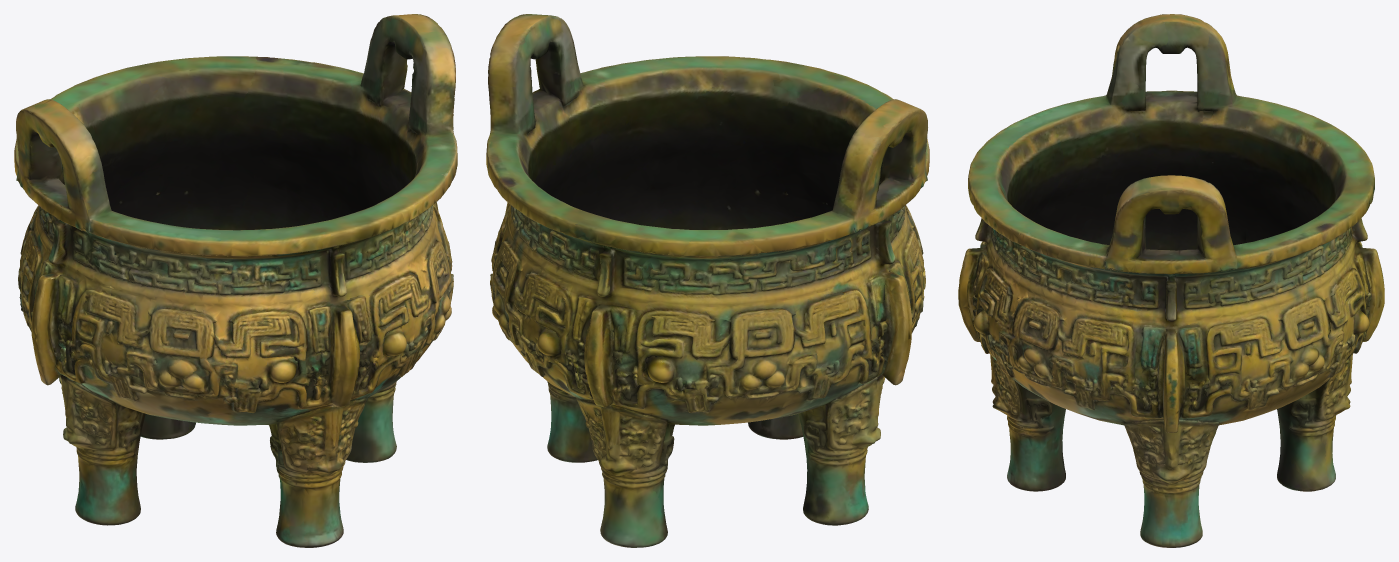
Rendered from bq_furnace.hd.glb.
3 renders of one model, left to right at view 1: azimuth 30°, elevation 25°; view 2: azimuth 150°, elevation 25°; view 3: azimuth 270°, elevation 25°, orthographic. The views are drawn at different scales.
Bounding box in the file's own units: 1.69 × 1.66 × 1.69.
Materials: 1 (1 with a texture image).
